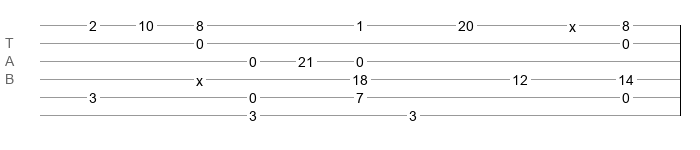0: (196, 36, 204, 46), (249, 90, 257, 100), (249, 54, 257, 64), (356, 54, 364, 64), (622, 36, 630, 46), (622, 90, 630, 100)
1: (356, 18, 364, 28)
10: (138, 18, 154, 28)
12: (512, 72, 528, 82)
14: (618, 72, 634, 82)
18: (352, 72, 368, 82)
2: (89, 18, 97, 28)
20: (458, 18, 474, 28)
21: (298, 54, 314, 64)
3: (89, 90, 97, 100), (249, 108, 257, 118), (409, 108, 417, 118)
7: (356, 90, 364, 100)
8: (196, 18, 204, 28), (622, 18, 630, 28)
x: (196, 73, 203, 81), (569, 19, 576, 27)
